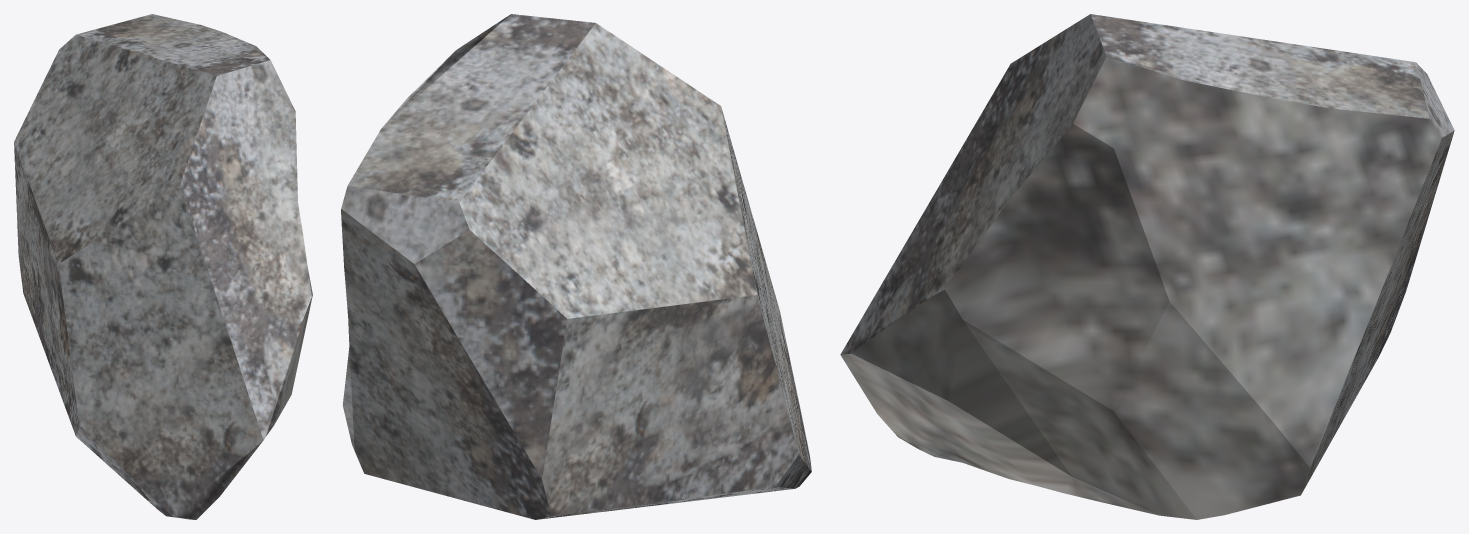
Rendered from Asteroid_Large_001_02_007_03_023.fbx.
3 renders of one model, left to right at view 1: azimuth 30°, elevation 25°; view 2: azimuth 150°, elevation 25°; view 3: azimuth 270°, elevation 25°, orthographic. The views are drawn at different scales.
Parts seen in each view (by area): view 1: Asteroid_Large_001_02_007_03_023; view 2: Asteroid_Large_001_02_007_03_023; view 3: Asteroid_Large_001_02_007_03_023.
Part boxes in pixels (x1=…): Asteroid_Large_001_02_007_03_023: x1=14, y1=14, x2=312, y2=519; Asteroid_Large_001_02_007_03_023: x1=341, y1=14, x2=811, y2=519; Asteroid_Large_001_02_007_03_023: x1=840, y1=14, x2=1454, y2=519.
Bounding box in the file's own units: 7.25 × 9.86 × 11.02.
